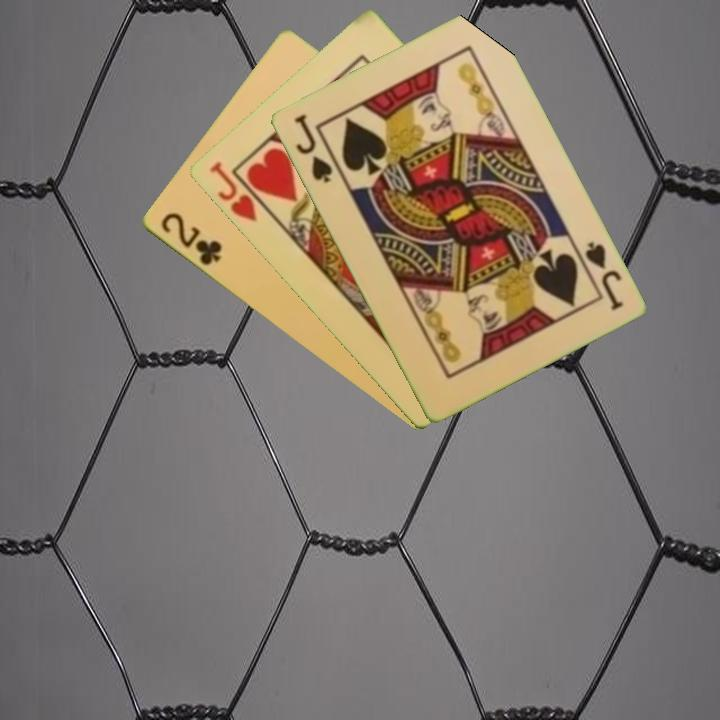2c: (156, 209, 225, 269)
Jh: (205, 158, 260, 225)
Js: (581, 237, 626, 314), (290, 110, 335, 186)
